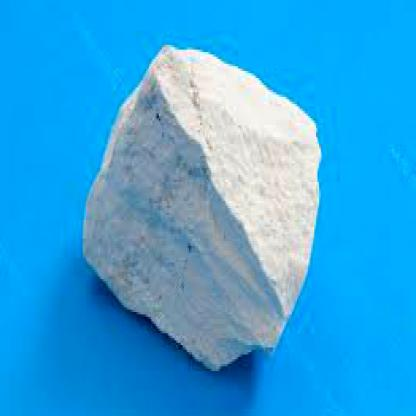Sedimentary_Chalk: (103, 73, 281, 364)
